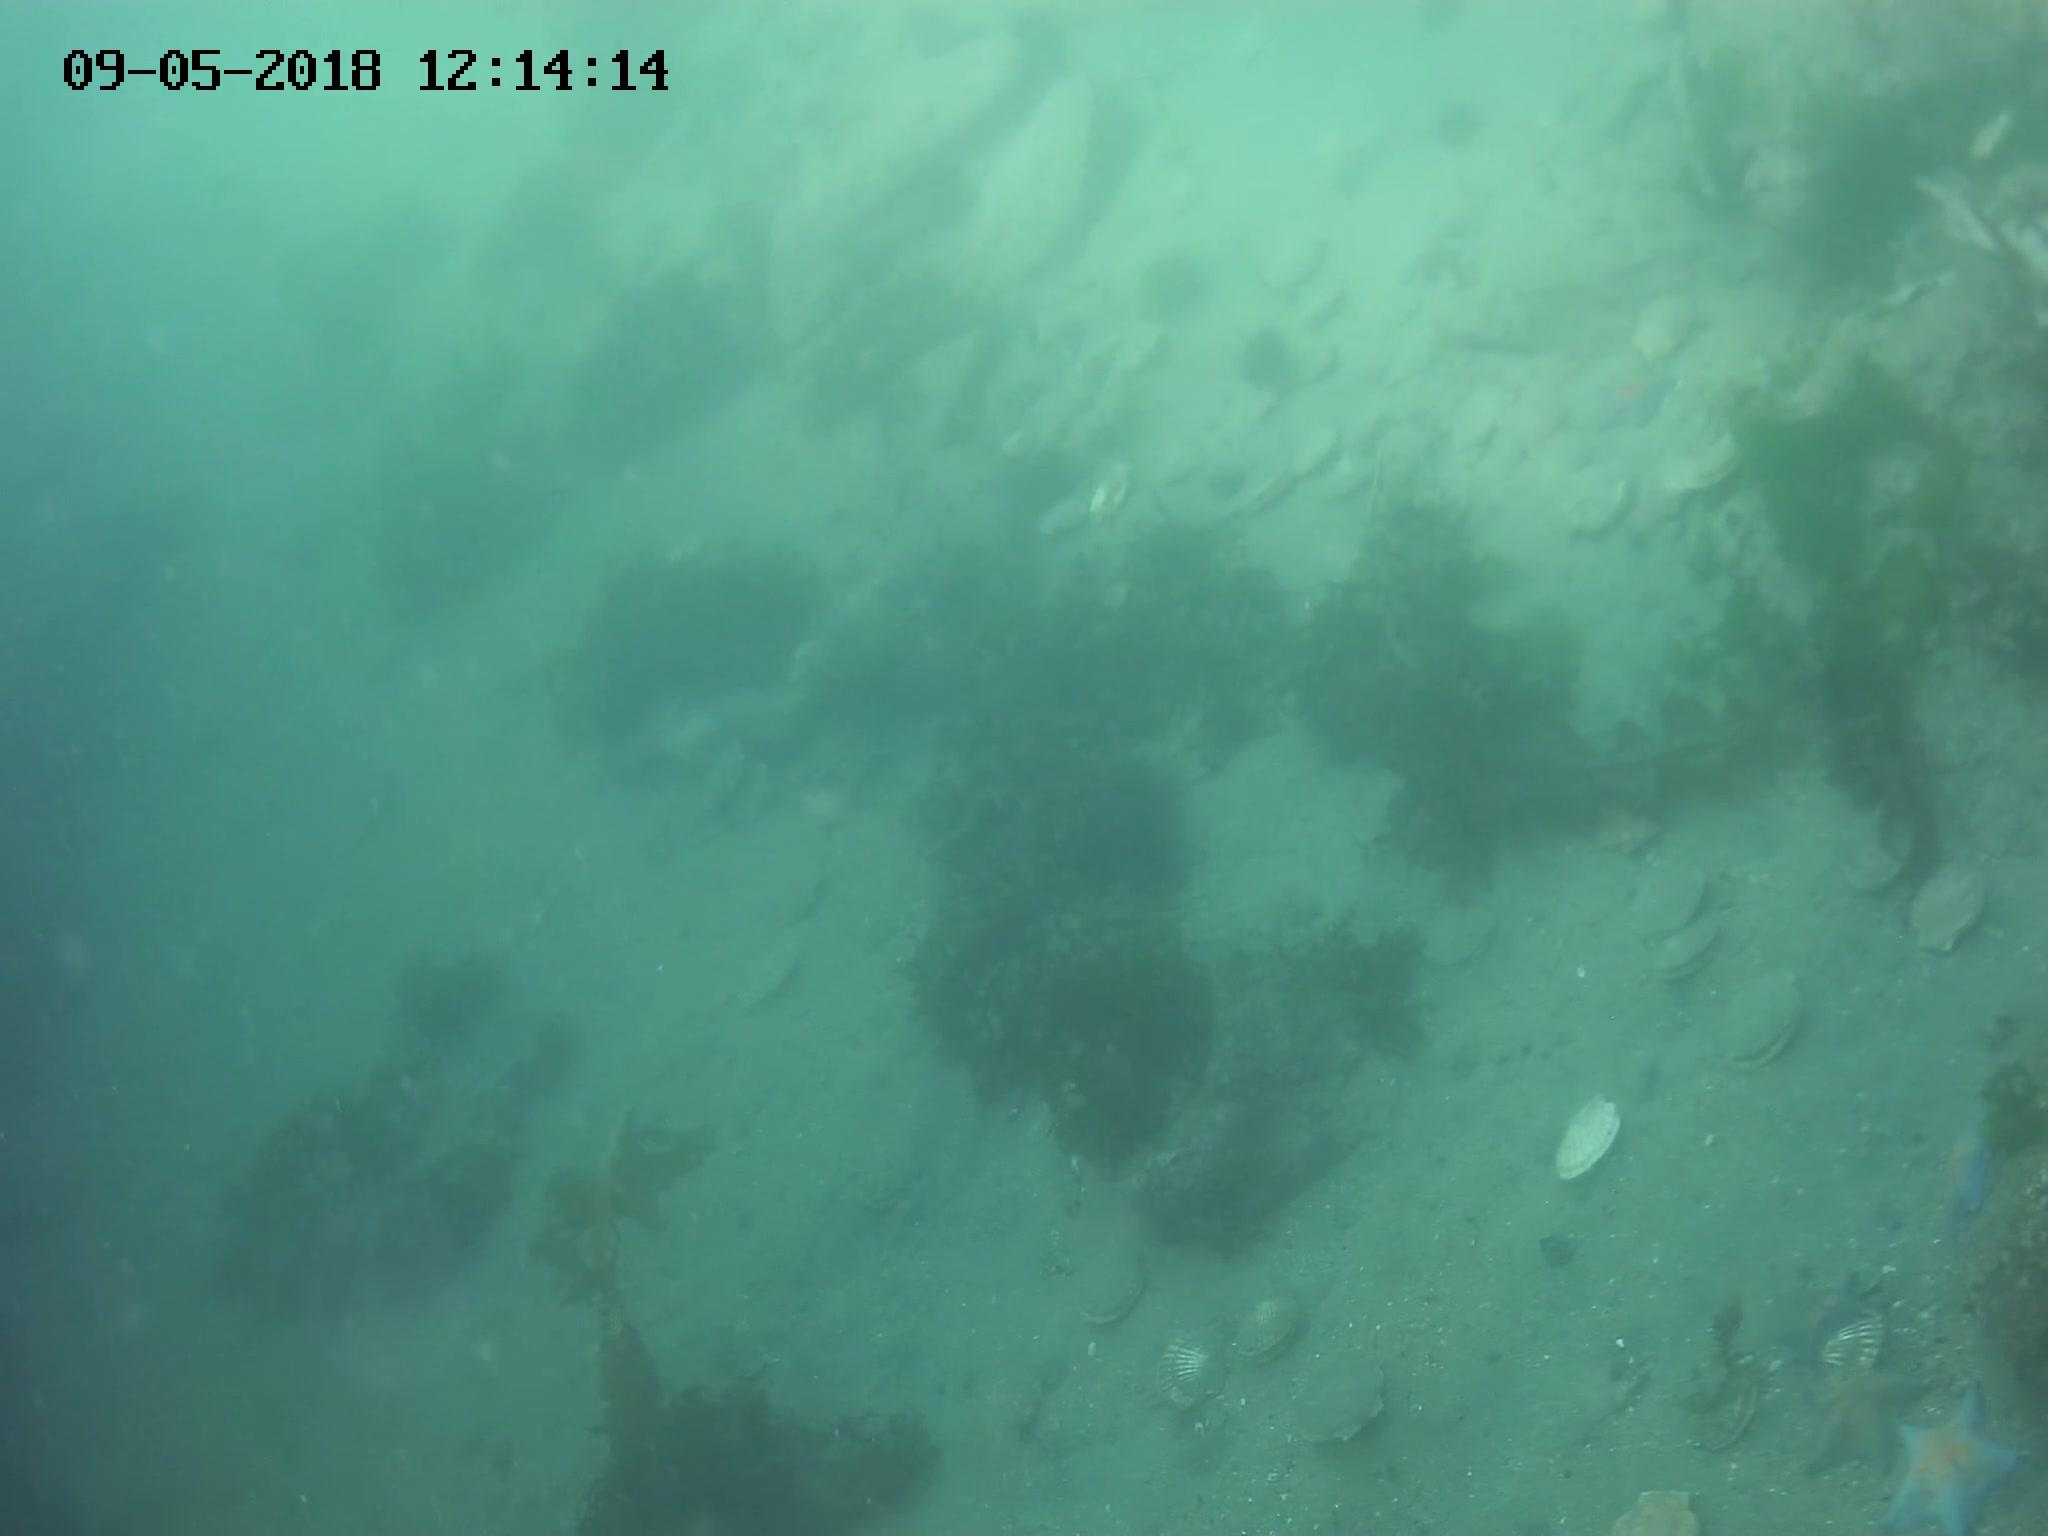scallop: (1717, 968, 1813, 1083), (1913, 857, 1996, 960), (1297, 1355, 1393, 1444), (1553, 1087, 1625, 1189), (1664, 424, 1763, 497), (1156, 1320, 1230, 1413), (1816, 1296, 1896, 1378), (1071, 1250, 1155, 1329), (1624, 290, 1706, 366), (1613, 1478, 1714, 1536), (1555, 474, 1642, 541), (1635, 863, 1708, 939), (1643, 920, 1729, 983), (1230, 1288, 1305, 1359), (1690, 1367, 1755, 1447), (1422, 910, 1500, 976), (731, 949, 805, 1012), (1255, 237, 1334, 295), (1109, 315, 1176, 381), (758, 876, 830, 931), (1085, 466, 1138, 531), (1032, 489, 1097, 542), (1837, 850, 1904, 899), (1376, 428, 1443, 473), (1596, 813, 1661, 857), (1290, 429, 1338, 482), (1330, 450, 1388, 494), (1292, 344, 1345, 386)
starfish: (1879, 1384, 2022, 1536), (1793, 1350, 1934, 1483), (1937, 1112, 2003, 1233)
